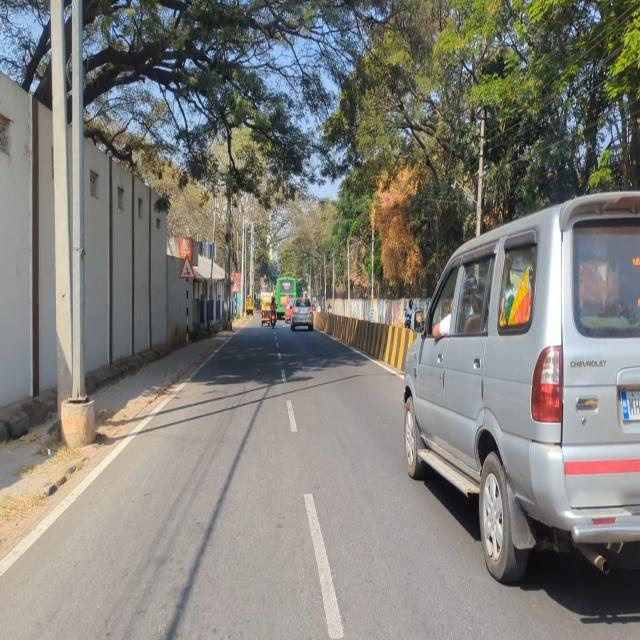bien_nguy_hiem: (178, 252, 195, 281), (231, 280, 239, 293)
